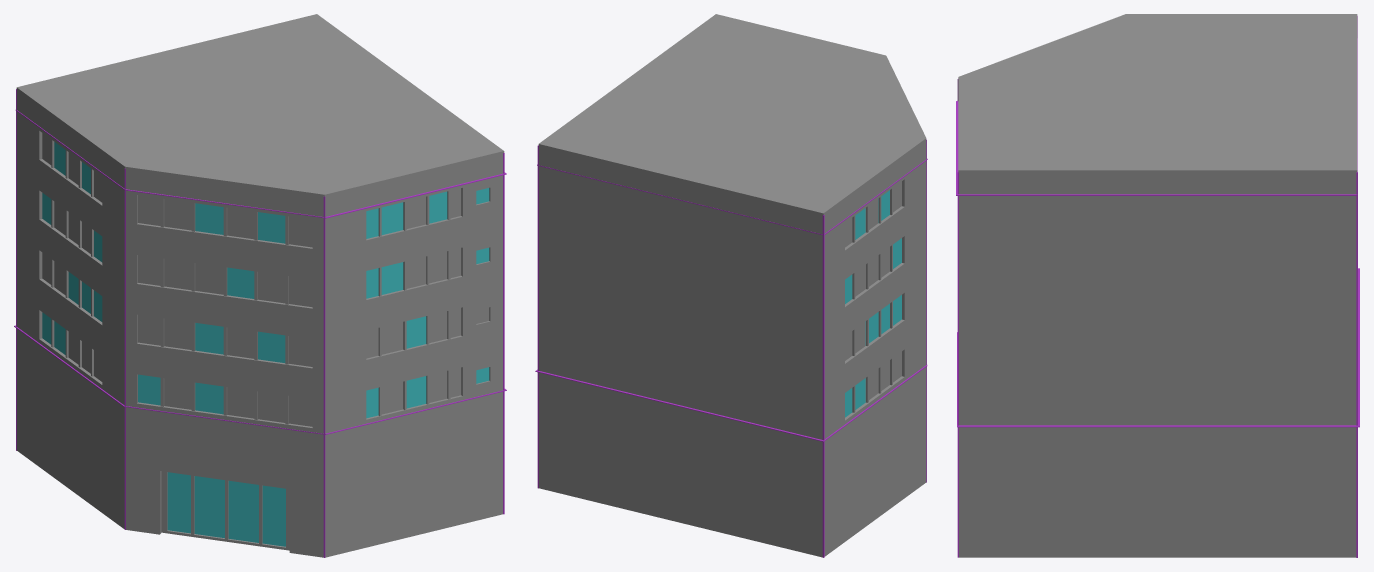
Rendered from BuildingS_03_var1.fbx.
3 renders of one model, left to right at view 1: azimuth 30°, elevation 25°; view 2: azimuth 150°, elevation 25°; view 3: azimuth 270°, elevation 25°, orthographic. The views are drawn at different scales.
Parts seen in each view (by area): view 1: BuildingS_03_var1; view 2: BuildingS_03_var1; view 3: BuildingS_03_var1.
Part boxes in pixels (bbox=[...]): BuildingS_03_var1: bbox=[14, 14, 506, 557]; BuildingS_03_var1: bbox=[535, 14, 927, 557]; BuildingS_03_var1: bbox=[956, 14, 1359, 557].
Size of the model in its own units: 0.3891 by 0.4444 by 0.4199.
